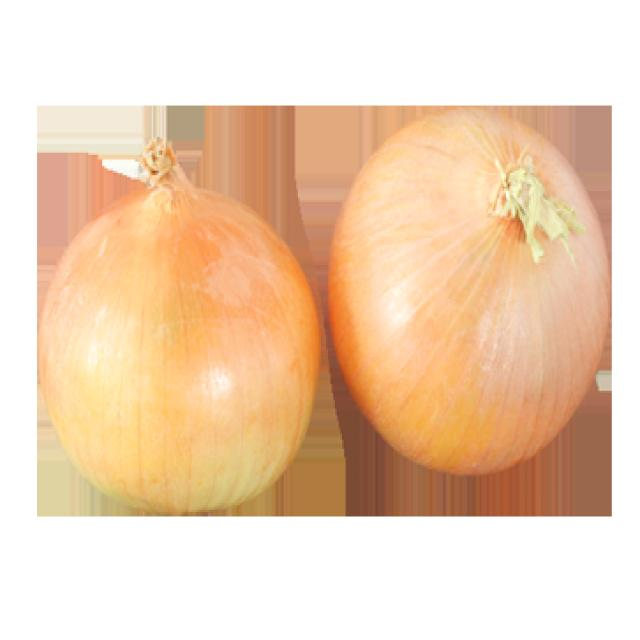onion: (318, 109, 624, 478), (28, 140, 324, 520)
